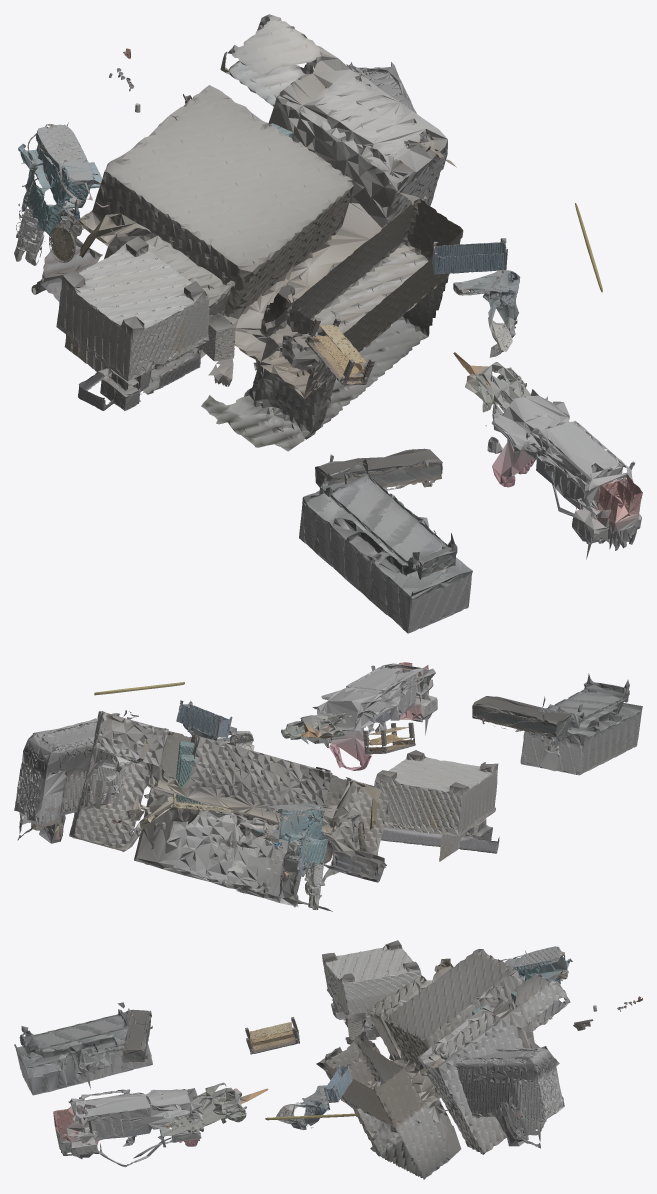
File: models-1-0.glb
3 views of the same model, one above another, from view 1: azimuth 30°, elevation 25°; view 2: azimuth 150°, elevation 25°; view 3: azimuth 270°, elevation 25° (orthographic). The views are drawn at different scales.
Visible parts, largest first — view 1: obj-1-264, obj-1-142, obj-1-134, obj-1-534, obj-1-128, obj-1-773, obj-1-136, obj-1-624, obj-1-504, obj-1-213, obj-1-180, obj-1-576 (+2 smaller); view 2: obj-1-264, obj-1-142, obj-1-180, obj-1-134, obj-1-534, obj-1-128, obj-1-773, obj-1-144, obj-1-213, obj-1-504, obj-1-98, obj-1-624 (+3 smaller); view 3: obj-1-264, obj-1-180, obj-1-534, obj-1-134, obj-1-142, obj-1-213, obj-1-128, obj-1-624, obj-1-773, obj-1-136, obj-1-504, obj-1-576.
Boxes of the visible parts, box(x1,y1,x2,y2) form: obj-1-264: box(31, 14, 463, 451); obj-1-142: box(56, 236, 209, 410); obj-1-134: box(299, 459, 472, 633); obj-1-534: box(485, 389, 642, 559); obj-1-128: box(18, 122, 108, 239); obj-1-773: box(315, 448, 442, 490); obj-1-136: box(453, 270, 520, 357); obj-1-624: box(305, 318, 375, 385); obj-1-504: box(432, 238, 507, 274); obj-1-213: box(453, 352, 530, 412); obj-1-180: box(346, 62, 430, 204); obj-1-576: box(201, 312, 235, 361); obj-1-264: box(69, 711, 389, 911); obj-1-142: box(374, 750, 498, 861); obj-1-180: box(14, 710, 138, 843); obj-1-134: box(520, 673, 642, 775); obj-1-534: box(306, 662, 437, 770); obj-1-128: box(254, 803, 337, 878); obj-1-773: box(472, 696, 571, 738); obj-1-144: box(381, 825, 499, 853); obj-1-213: box(281, 713, 352, 744); obj-1-504: box(176, 700, 232, 737); obj-1-98: box(173, 741, 234, 817); obj-1-624: box(363, 722, 415, 754); obj-1-264: box(316, 949, 570, 1179); obj-1-180: box(428, 1046, 564, 1148); obj-1-534: box(53, 1088, 204, 1167); obj-1-134: box(14, 1002, 152, 1095); obj-1-142: box(322, 940, 421, 1040); obj-1-213: box(155, 1082, 268, 1136); obj-1-128: box(501, 946, 572, 982); obj-1-624: box(245, 1017, 299, 1054); obj-1-773: box(122, 1009, 152, 1064); obj-1-136: box(276, 1085, 330, 1129); obj-1-504: box(324, 1063, 352, 1103); obj-1-576: box(347, 1012, 366, 1040).
Bounding box in the file's own units: 12.5 × 7.39 × 20.39.
